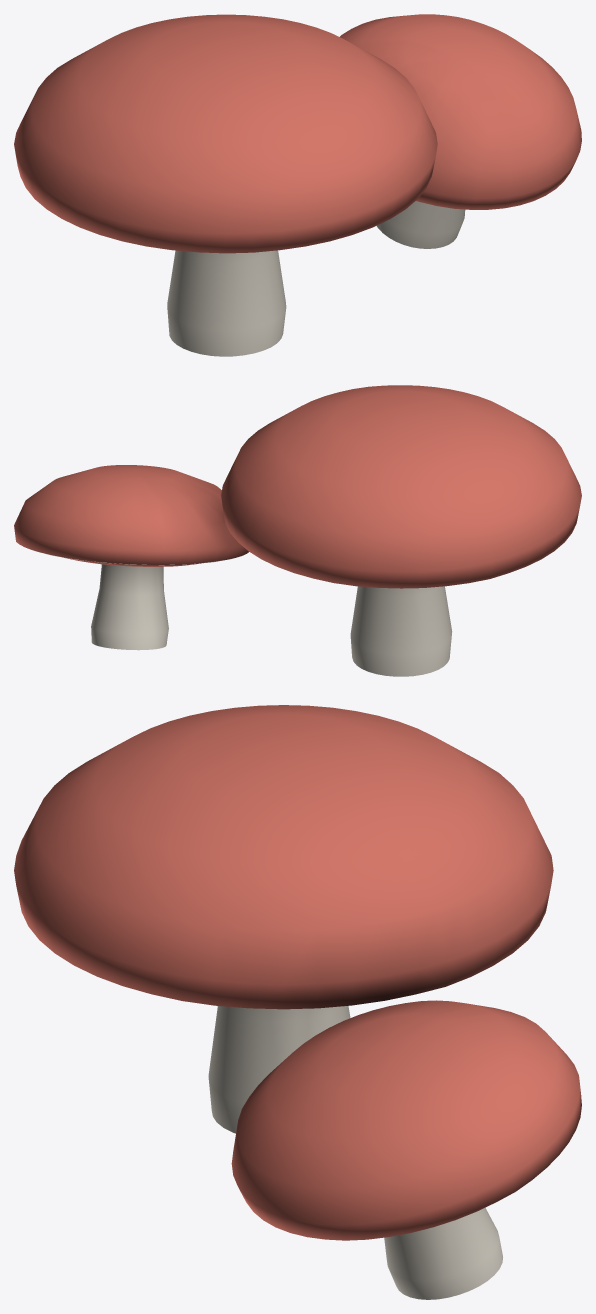
File: food_shiitake.glb
3 renders of one model, top to bottom at view 1: azimuth 30°, elevation 25°; view 2: azimuth 150°, elevation 25°; view 3: azimuth 270°, elevation 25°, orthographic. The views are drawn at different scales.
Parts seen in each view (by area): view 1: PART; view 2: PART; view 3: PART.
Boxes of the visible parts, bbox=[...] form: PART: bbox=[14, 14, 581, 356]; PART: bbox=[14, 385, 581, 676]; PART: bbox=[14, 705, 581, 1299].
Size of the model in its own units: 0.1121 by 0.0549 by 0.0758.
